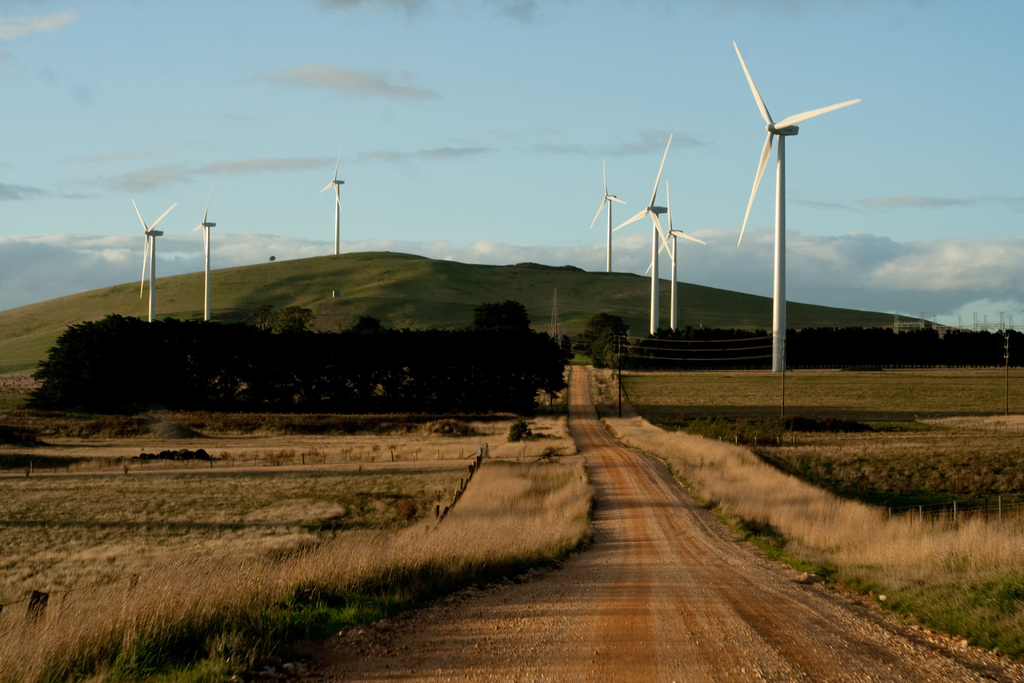Tree: (33, 300, 566, 415), (576, 313, 1023, 365)
